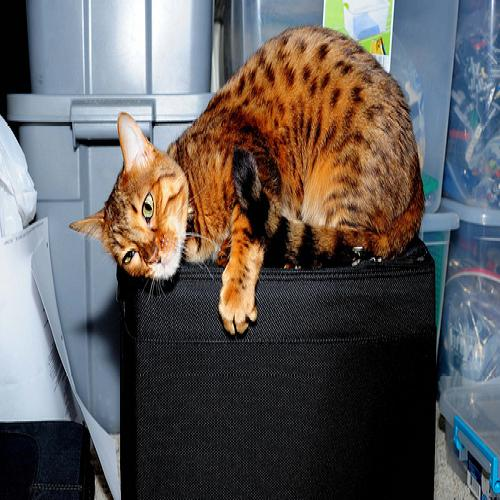cat-face: (68, 113, 198, 290)
